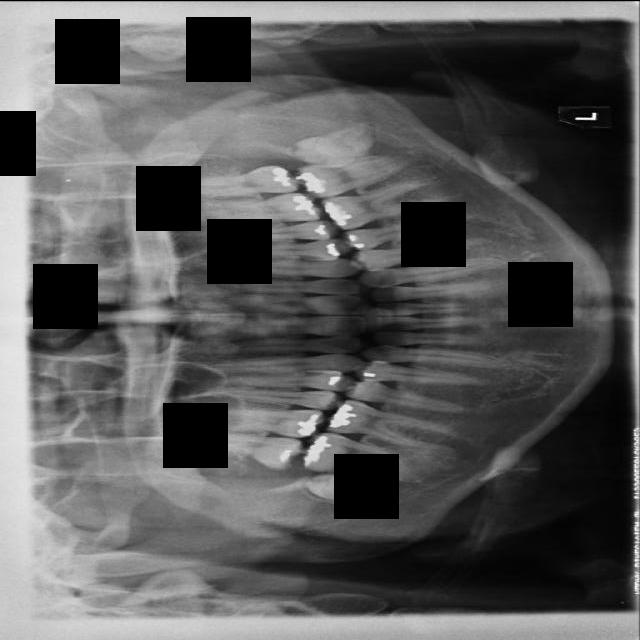52: (298, 423, 358, 484), (322, 390, 378, 447), (319, 182, 374, 239), (248, 423, 306, 477), (293, 164, 352, 198), (297, 234, 353, 265), (268, 191, 325, 221), (271, 409, 327, 438), (246, 163, 300, 193), (303, 367, 358, 392), (340, 226, 388, 251), (351, 359, 397, 382), (291, 220, 339, 239)
73: (574, 36, 585, 44)
BioHorizons Implant: (184, 162, 300, 201)
Biomet 3i Implant: (292, 120, 379, 177)
Blue Sky Bio Implant: (292, 151, 415, 201)
Caries: (176, 428, 304, 471)
Implant: (302, 429, 419, 482)
Keystone Dental Implant: (302, 453, 391, 518)
